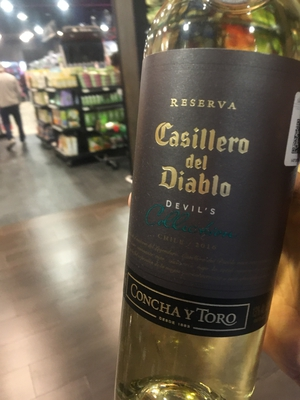casillero del diablo devils collection verde: (114, 16, 291, 400)
